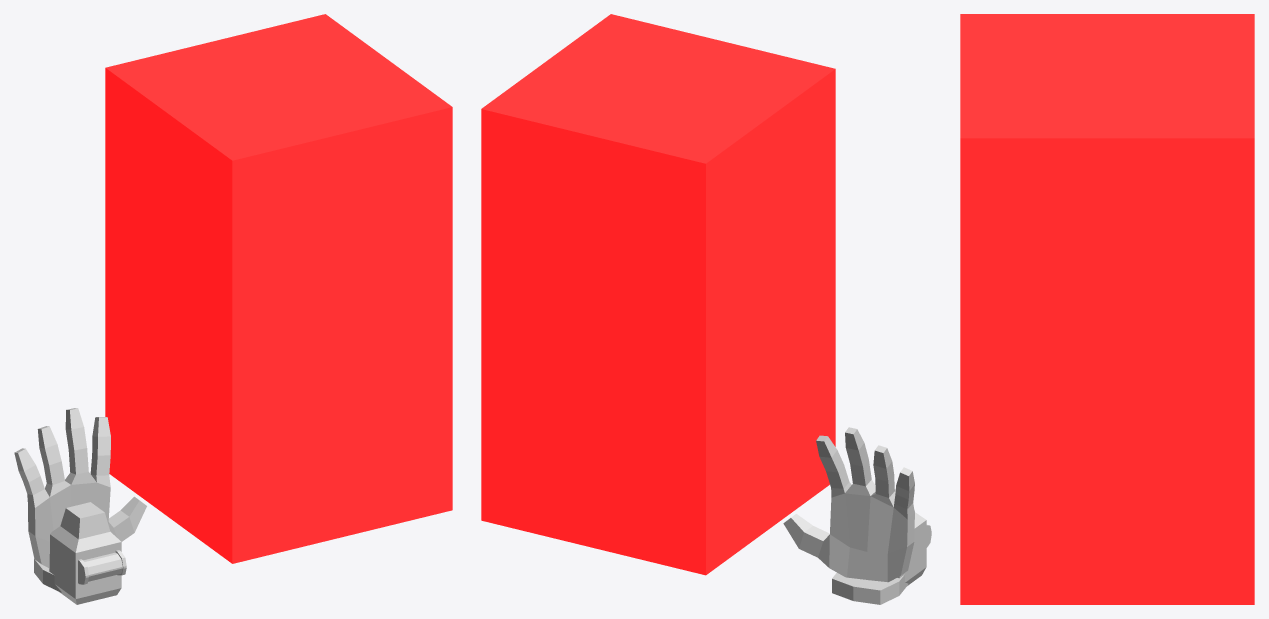
The model's file is hands.glb.
The picture shows the model from 3 angles, left to right: view 1: azimuth 30°, elevation 25°; view 2: azimuth 150°, elevation 25°; view 3: azimuth 270°, elevation 25°; orthographic projection. The views are drawn at different scales.
Visible parts, largest first — view 1: Cube.002, Cube; view 2: Cube.002, Cube; view 3: Cube.002.
Boxes of the visible parts, x1,y1,x2,y2 form: Cube.002: [105, 14, 452, 563]; Cube: [14, 408, 146, 604]; Cube.002: [481, 14, 835, 575]; Cube: [783, 427, 931, 604]; Cube.002: [960, 14, 1254, 604].
Bounding box in the file's own units: 1.66 × 1.91 × 1.
